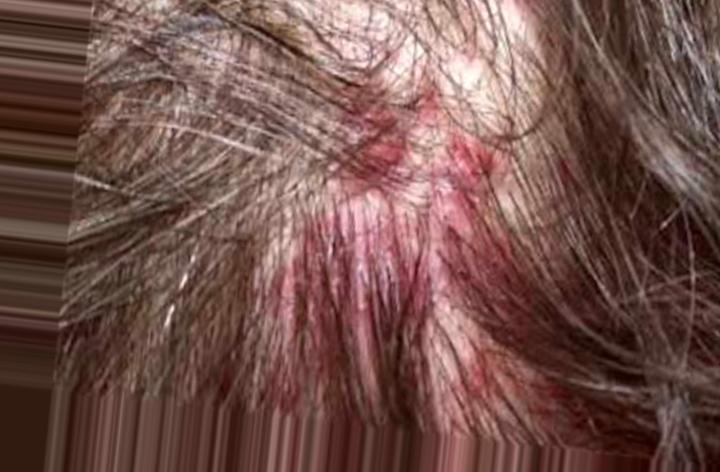Folliculitis: (305, 85, 530, 299)
